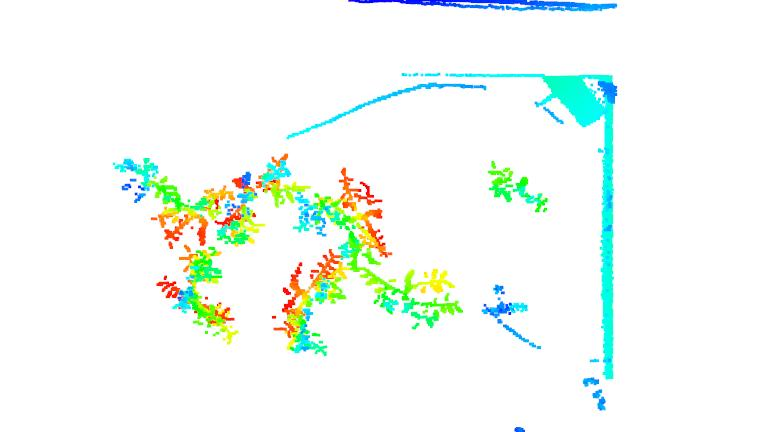chickpea: (103, 159, 207, 255), (292, 166, 387, 268), (204, 152, 292, 245), (274, 252, 351, 357), (142, 276, 242, 346), (356, 267, 461, 332), (481, 157, 551, 217), (181, 244, 229, 286)
